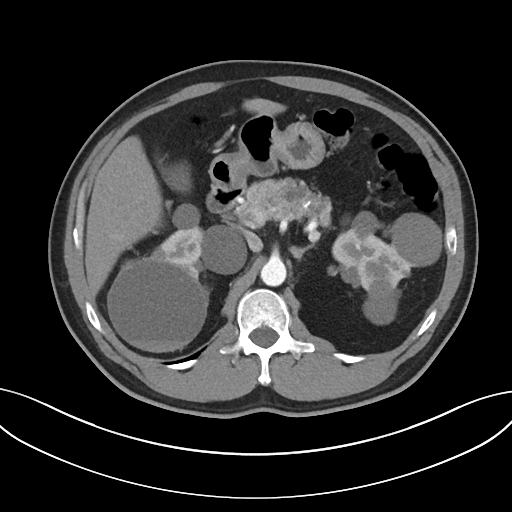Lesion: (104, 261, 208, 354)
